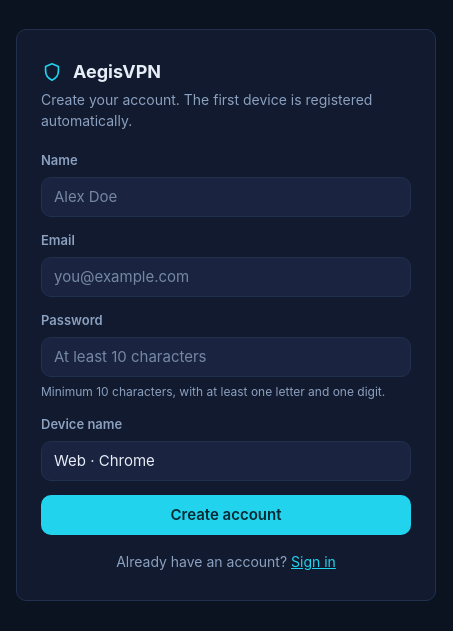
Test: Register page › requires the password to contain a letter and a digit
Type "New User" into the field labelled "Name".
click(226, 197); type("New User")  # box [41, 176, 411, 217]
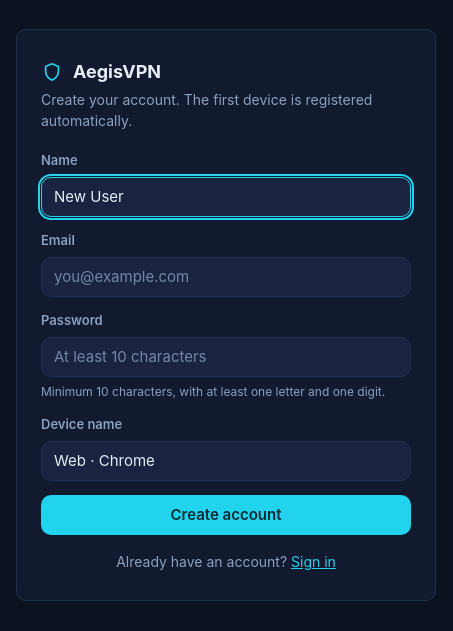
Type "n@d.e" into the field labelled "Email".
click(226, 277); type("n@d.e")  # box [41, 256, 411, 297]
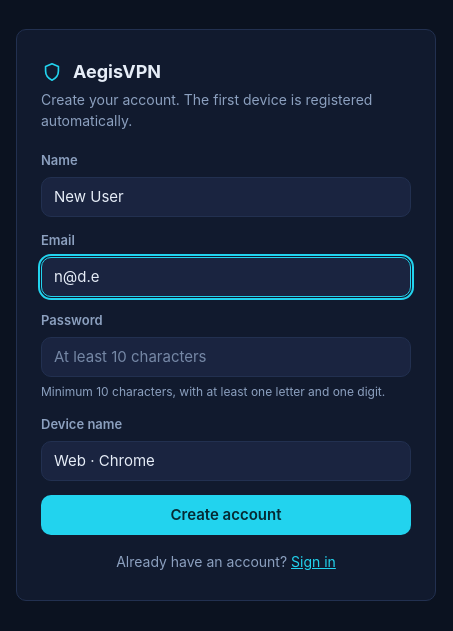
Type " nodigitsatall " into the password field labelled "Password".
click(226, 357); type(" nodigitsatall ")  # box [41, 336, 411, 377]
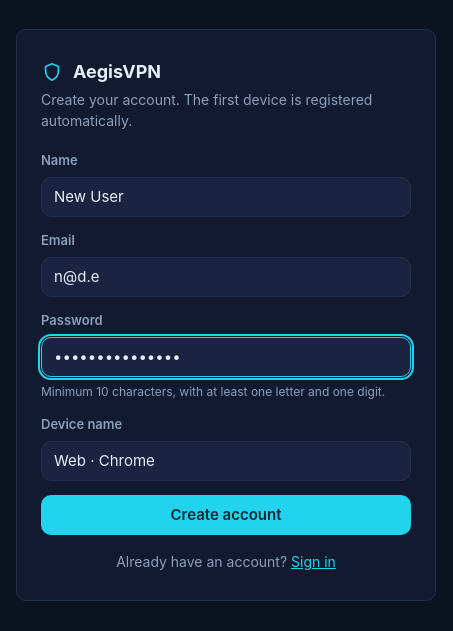
Click the button "Create account".
click(226, 515)  # box [41, 495, 411, 535]
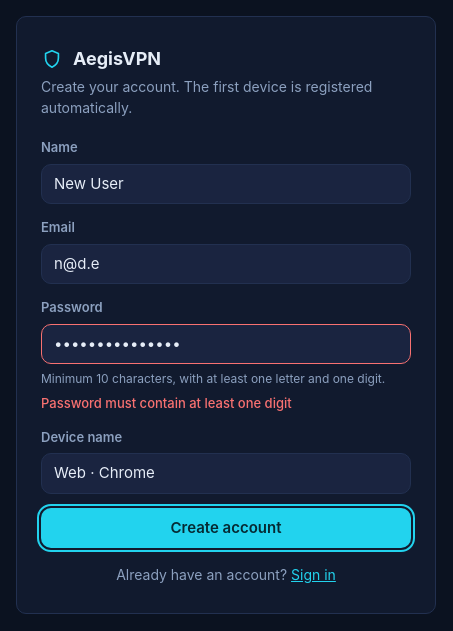
Now the message shows "at least one digit", box [41, 395, 292, 411]
